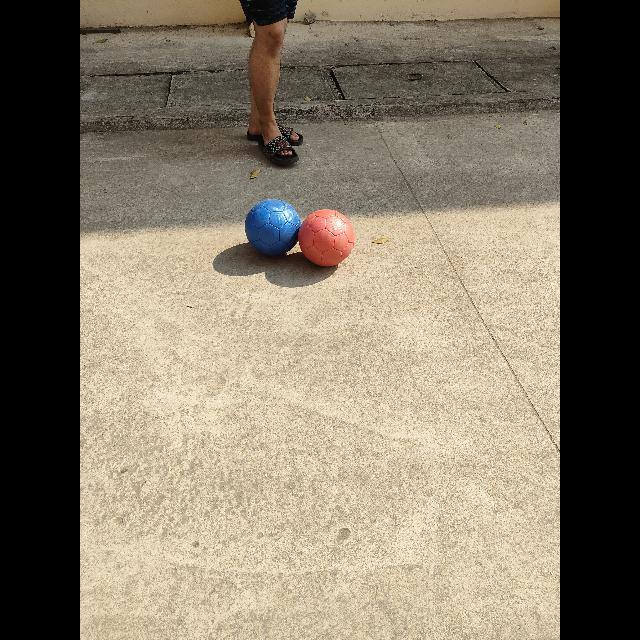B: (245, 200, 300, 256)
R: (299, 210, 355, 266)
